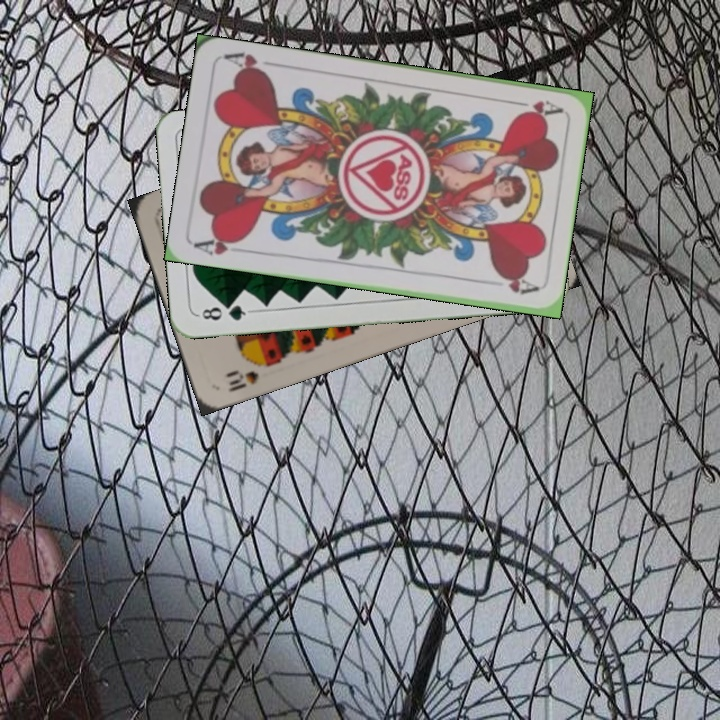G8: (195, 300, 254, 324)
HA: (191, 231, 250, 259), (506, 96, 565, 120)
S10: (221, 357, 273, 395)
